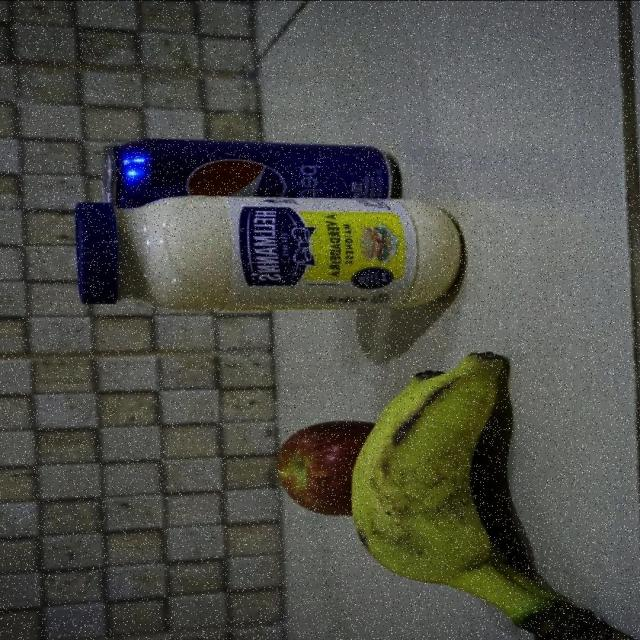Apple: (276, 418, 376, 516)
Banana: (348, 351, 614, 640)
Mayonnaise: (73, 193, 467, 311)
SodaCan: (102, 136, 404, 209)
